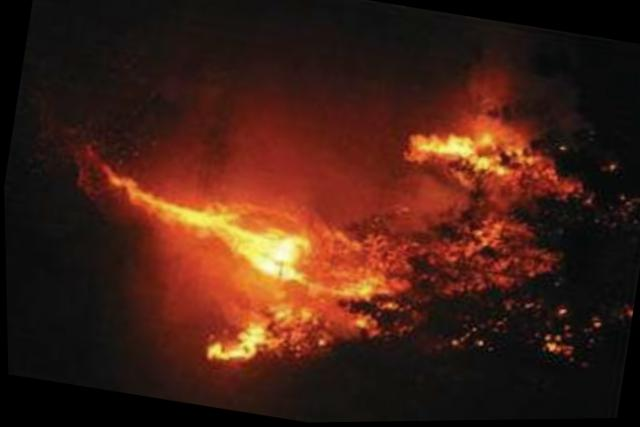fire: (64, 42, 591, 419)
